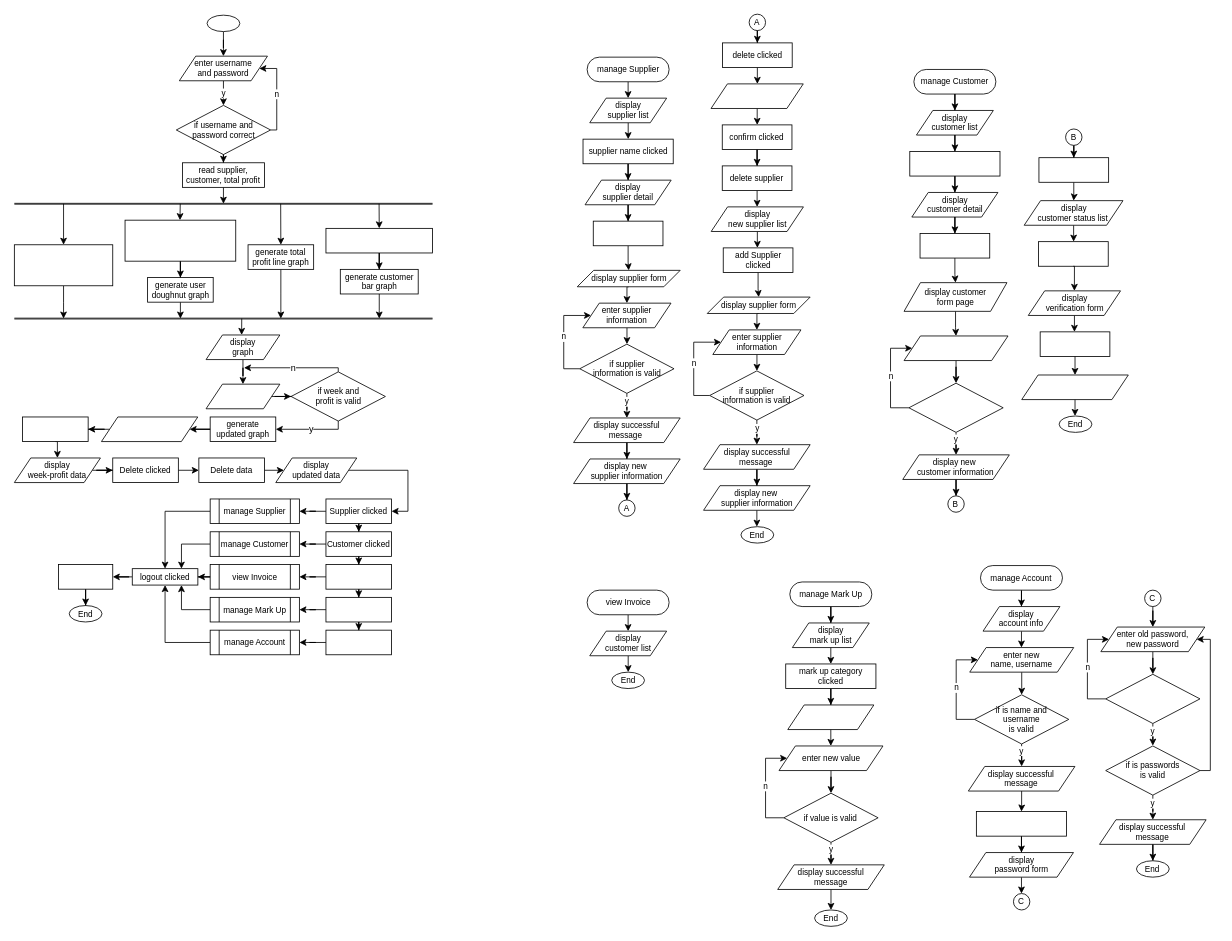
This 1232x941 diagram has some shape labels left out. Here are the shapes that lost their labels. From the top down, the centre of each, then its label:
the point at 223,23: Start
the point at 756,95: display delete confirmation
the point at 954,163: customer name clicked
the point at 1073,169: verify clicked
the point at 180,240: calculate number of user; car supplier, truck & used part supplier, customer
the point at 379,240: calculate number of verified and non-verified customer
the point at 627,233: update clicked
the point at 954,245: add customer clicked
the point at 1073,253: email clicked
the point at 63,265: calculate number of customer, supplier, invoice and total profit.
the point at 955,348: enter customer information
the point at 1074,343: verified ticked and submitted
the point at 242,396: enter week and profit
the point at 955,407: if customer information is valid
the point at 1074,387: display new customer list
the point at 55,429: View data clicked
the point at 149,429: display updated graph
the point at 85,576: system logged out
the point at 358,576: Invoice clicked
the point at 358,609: Mark Up clicked
the point at 358,642: Account clicked
the point at 830,717: display mark up detail
the point at 1152,698: if is old passwords is existed
the point at 1021,823: password form clicked
